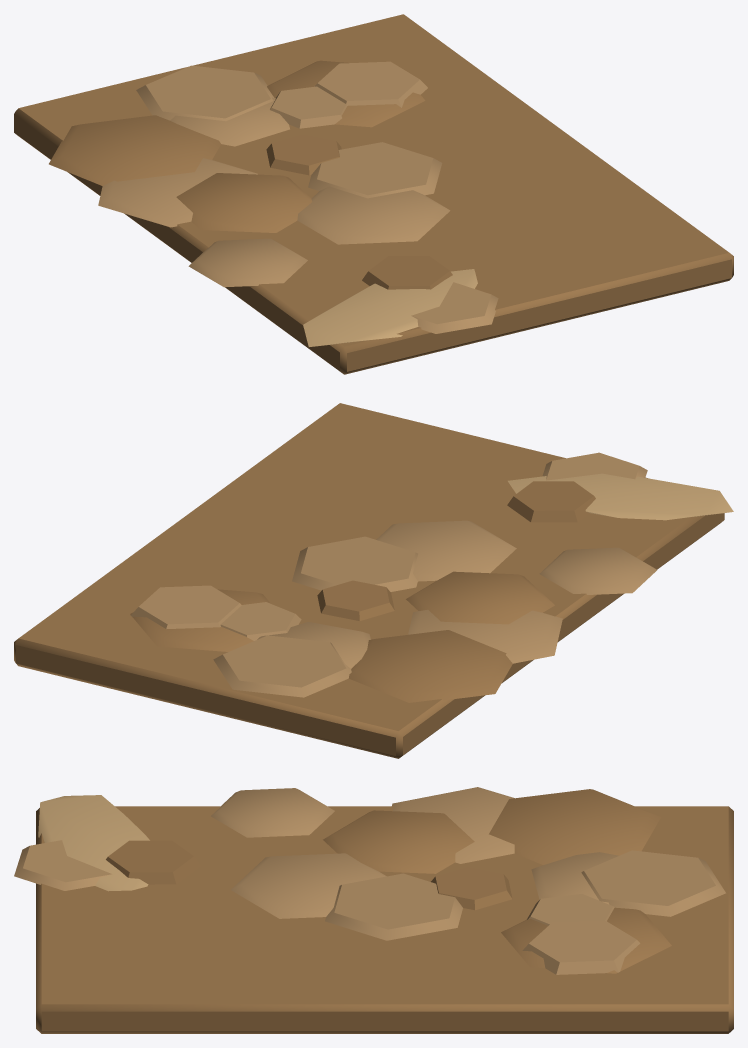
Rendered from cv_sand_hall.glb.
3 views of the same model, one above another, from view 1: azimuth 30°, elevation 25°; view 2: azimuth 150°, elevation 25°; view 3: azimuth 270°, elevation 25° (orthographic). The views are drawn at different scales.
Parts seen in each view (by area): view 1: body; view 2: body; view 3: body.
Boxes of the visible parts, x1=… form: body: x1=14, y1=14, x2=733, y2=374; body: x1=14, y1=403, x2=733, y2=758; body: x1=14, y1=787, x2=733, y2=1033.
Size of the model in its own units: 4.79 by 0.3986 by 6.6.
